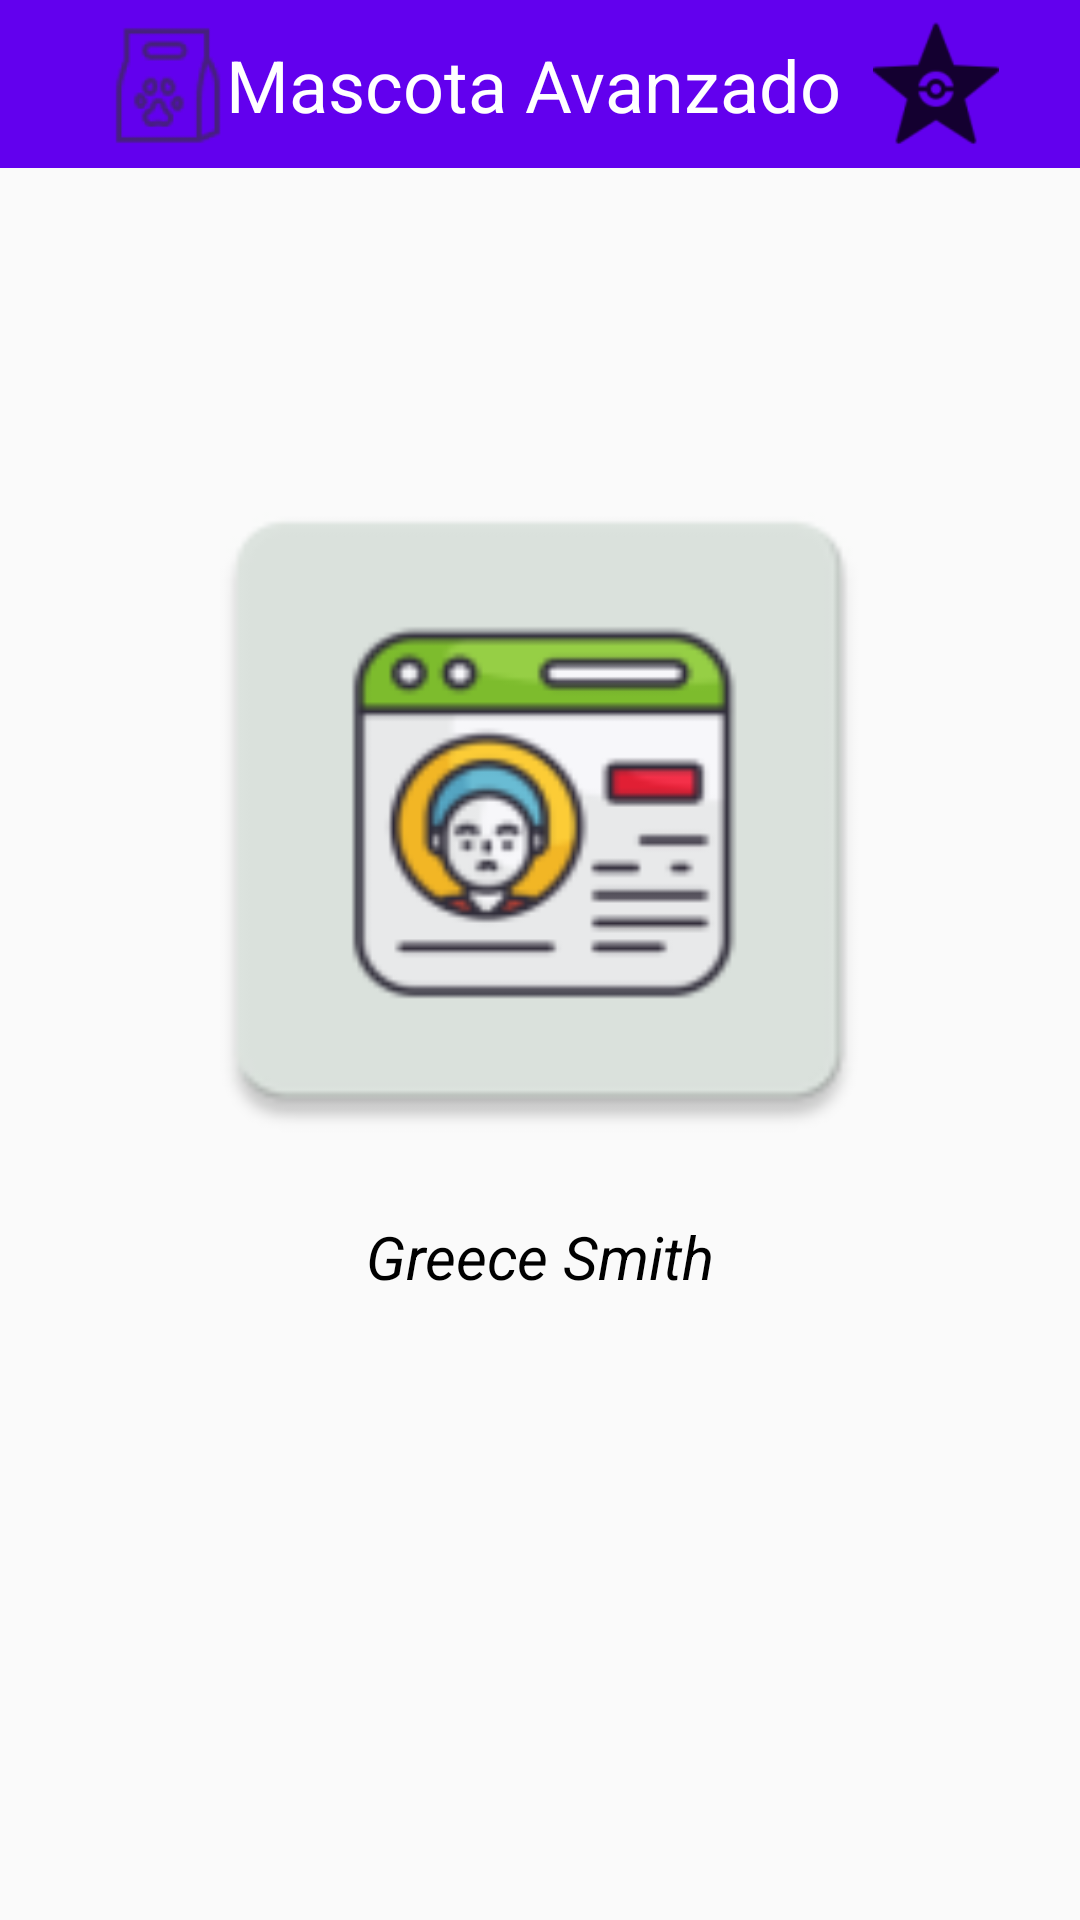

Icons on this 1080w x 1920h Android screen, each with its box as (x1, y1, x2, y2):
huella name: (116, 28, 220, 143)
